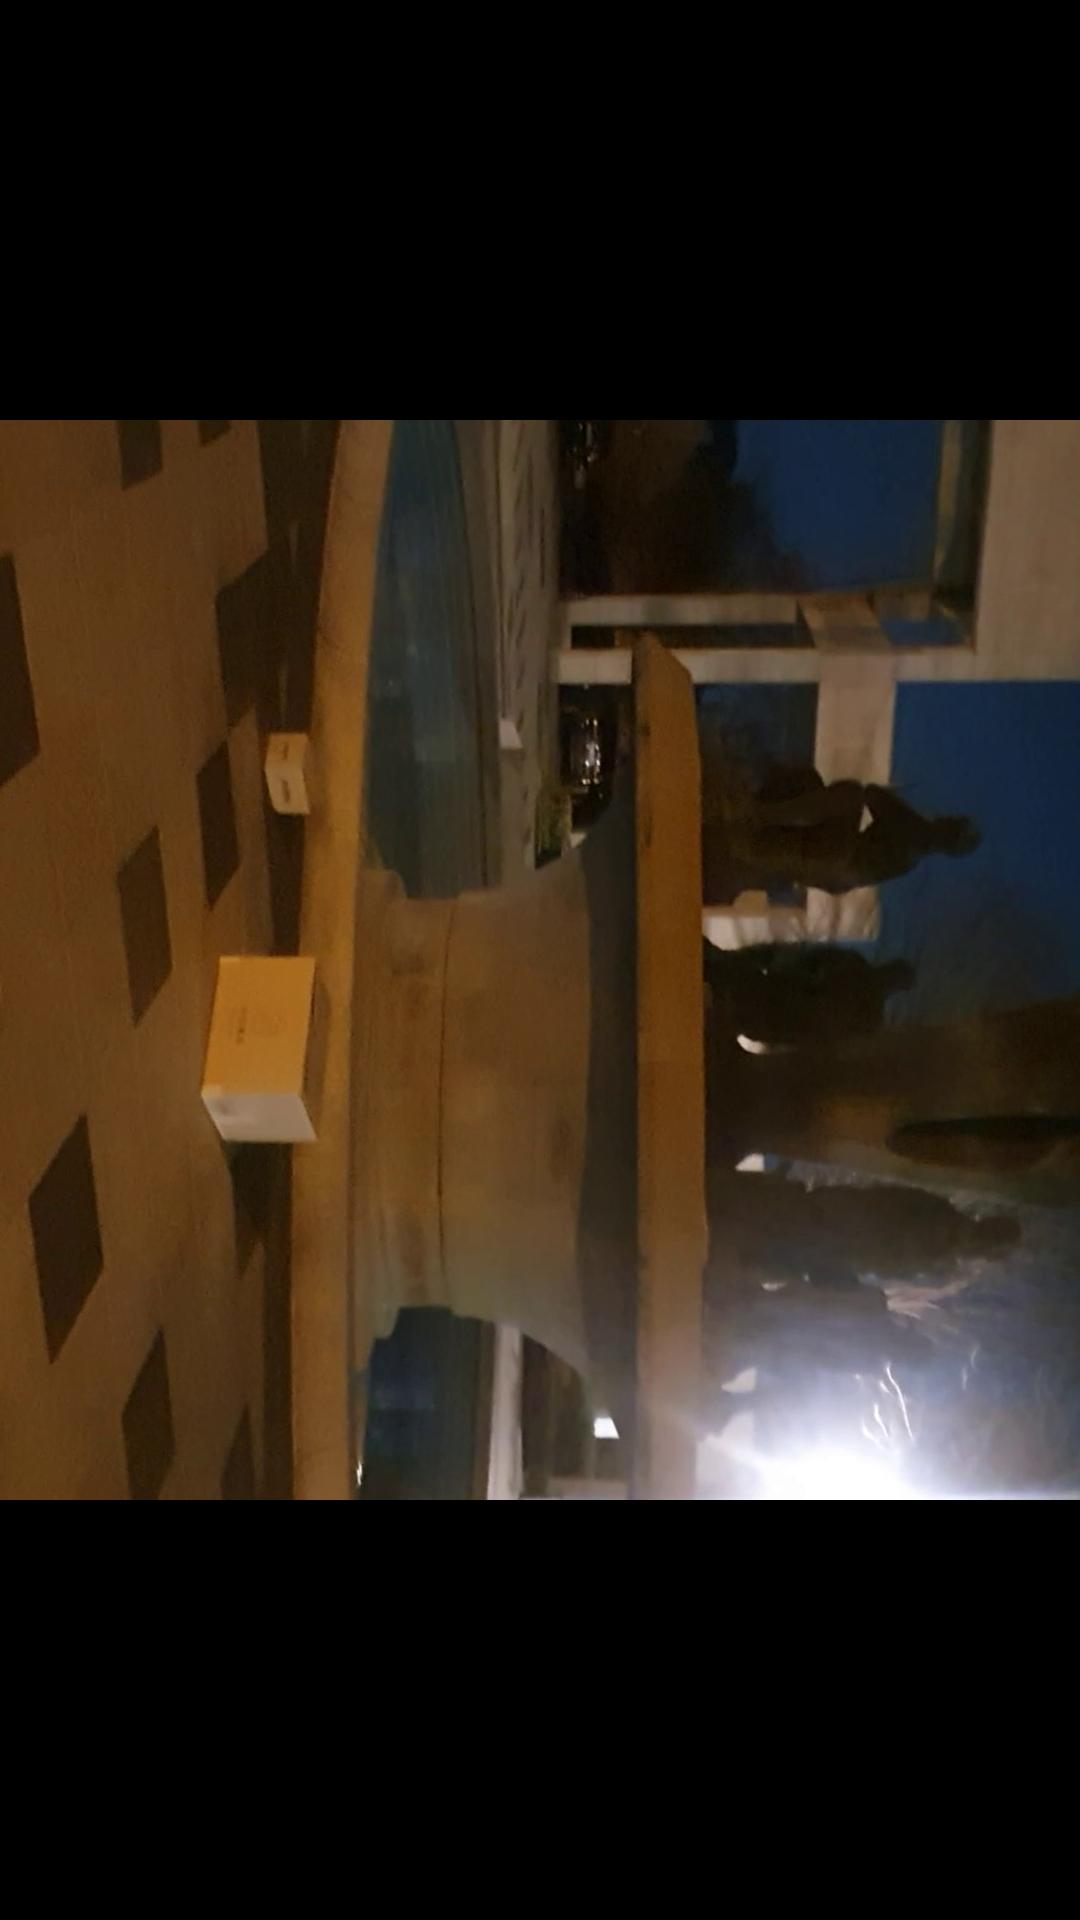Box: (200, 956, 335, 1150), (260, 731, 335, 818)
